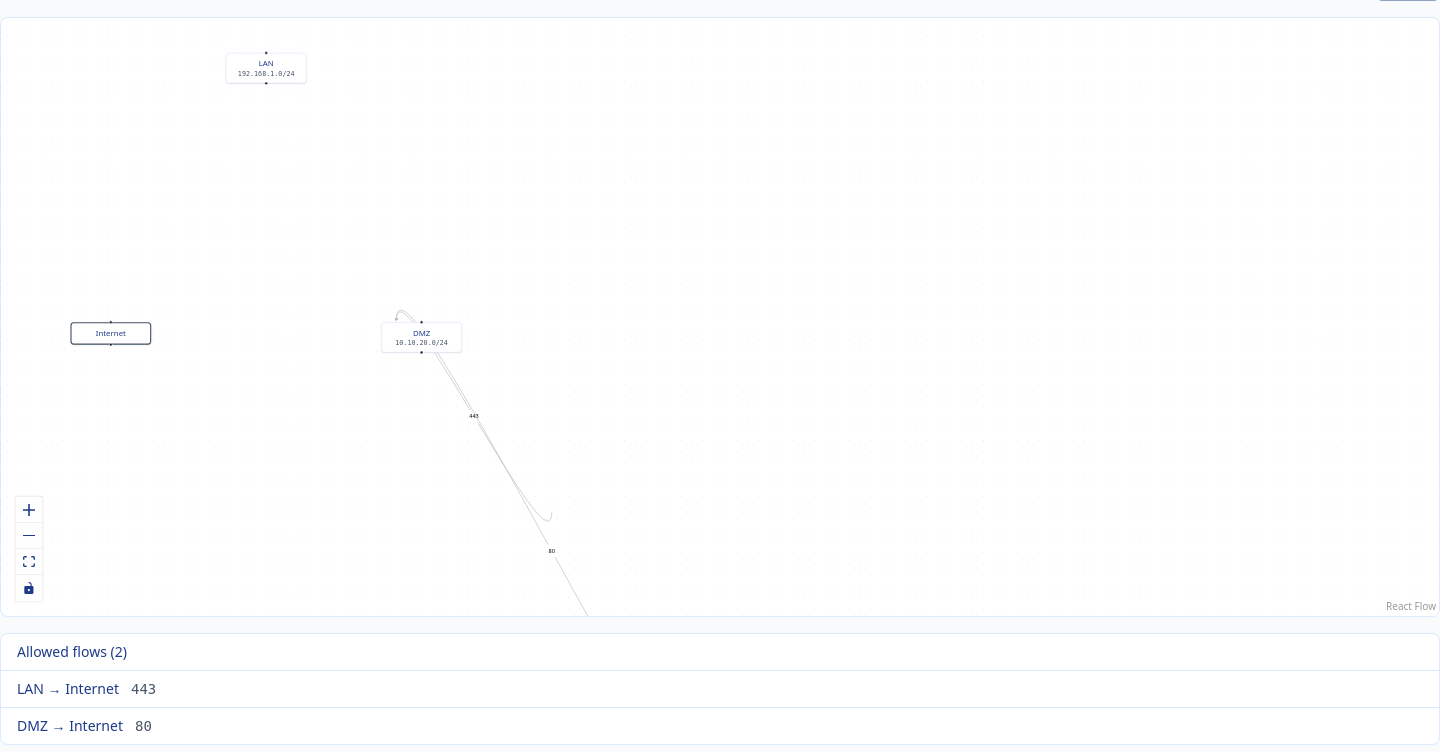
Test: AccessMapPage › focusing a zone › keeps only the flows that touch the focused zone
Expected: the text "LAN → Internet" is shown, [17, 679, 119, 699]
Step 1. Click the text "LAN" → (266, 63), box [259, 58, 274, 69]
(page scrolled)
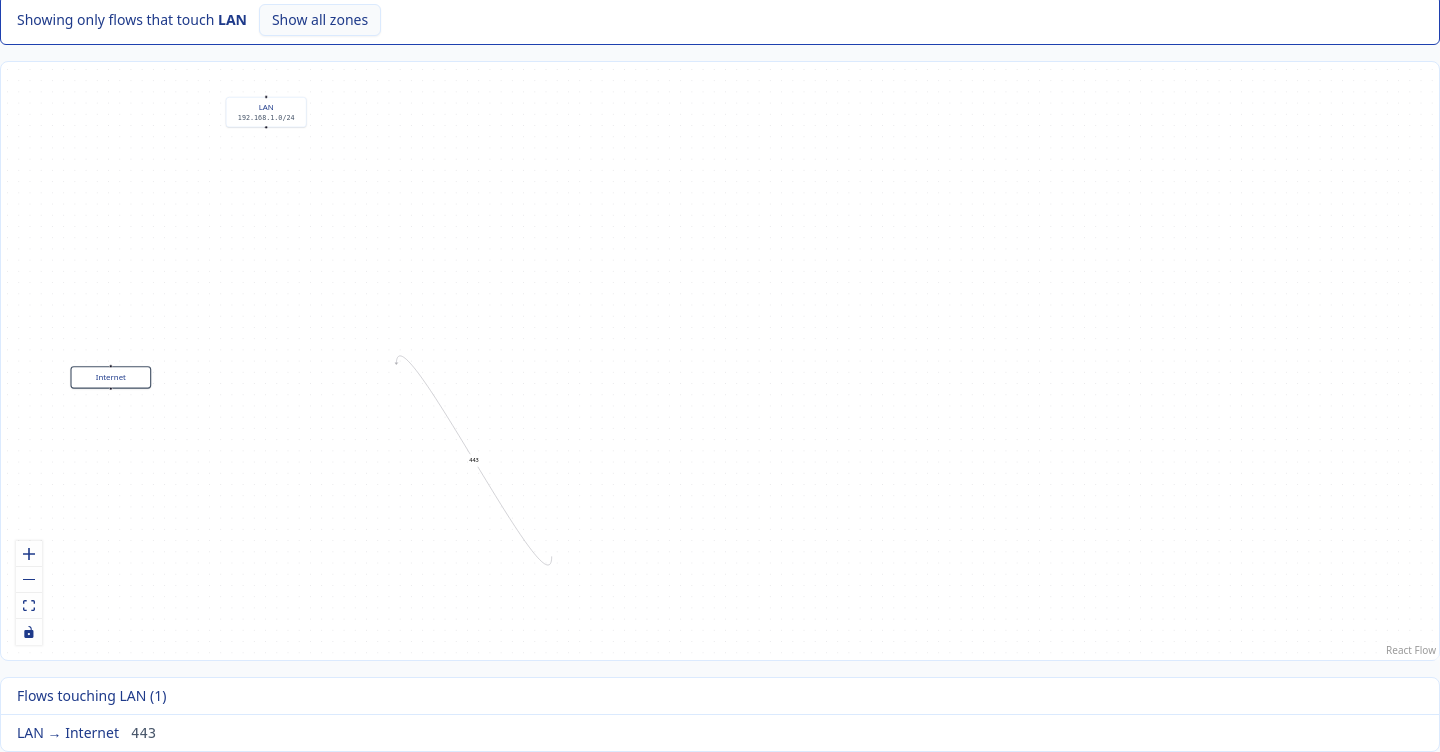
Expected: the text "LAN → Internet" is shown, [17, 723, 119, 743]
Now the button "DMZ → Internet" is gone
